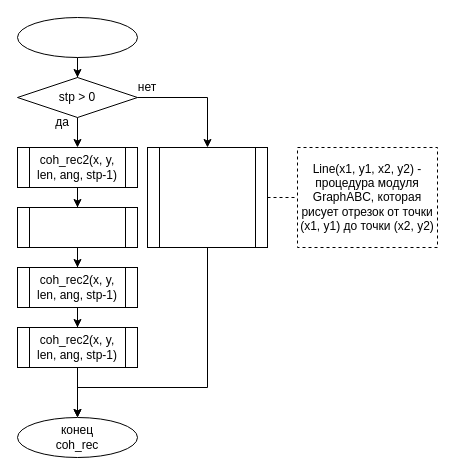
This 455x475 diagram has some shape labels left out. Each missing label, with the centre of its shape:
"coh_rec2(x, y, len, ang + pi/3, stp-1)" goes at [77,227].
"Line(Round(x), Round(y), Round(x + cos(ang)*len), Round(y - sin(ang)*len))" goes at [207,197].
"начало coh_rec" goes at [77,37].
